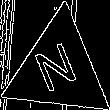N_SE: (32, 38, 85, 100)
